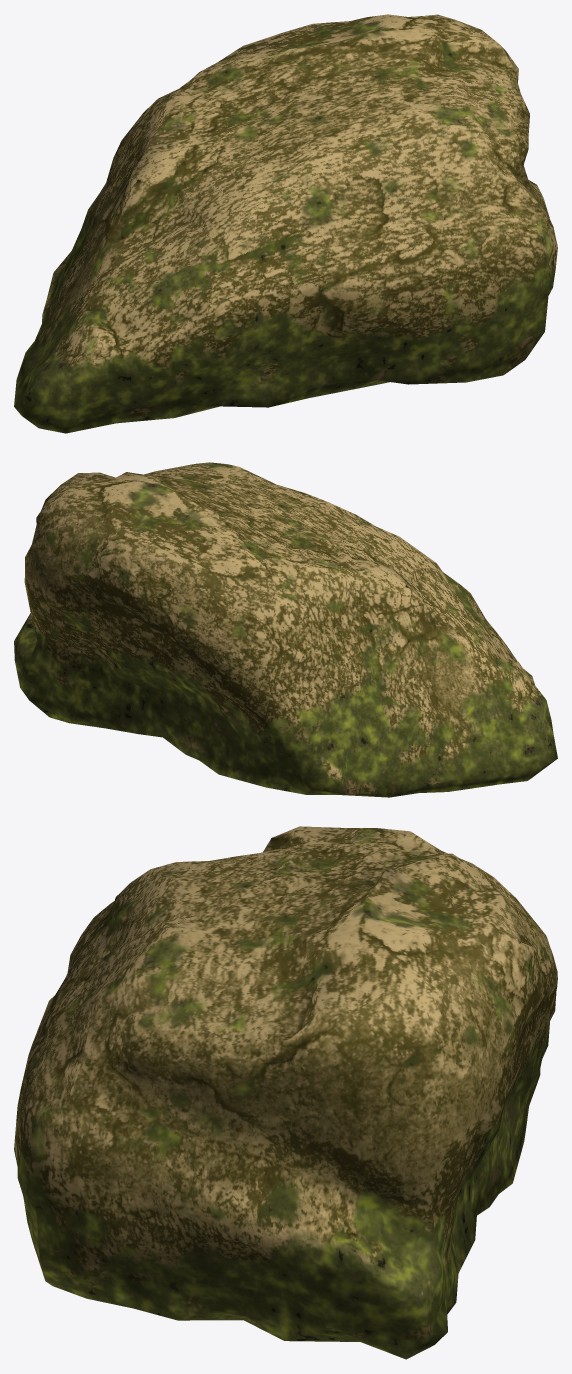
The model's file is mm8_deco_rock27.glb.
3 renders of one model, top to bottom at view 1: azimuth 30°, elevation 25°; view 2: azimuth 150°, elevation 25°; view 3: azimuth 270°, elevation 25°, orthographic. The views are drawn at different scales.
Visible parts, largest first — view 1: Rock27; view 2: Rock27; view 3: Rock27.
Part boxes in pixels (<box>): Rock27: <box>14,14,557,433</box>; Rock27: <box>14,462,557,797</box>; Rock27: <box>14,826,557,1359</box>.
Bounding box in the file's own units: 1.45 × 0.6772 × 0.8955.
1 material, 1 textured.
